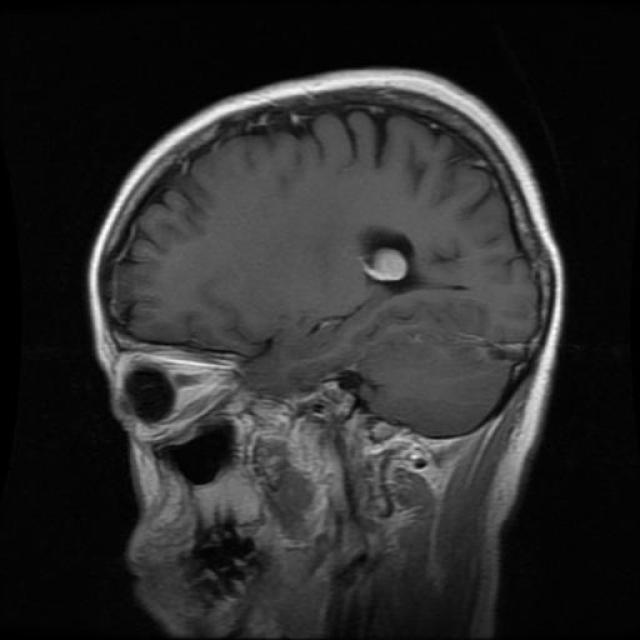meningioma: (364, 249, 409, 282)
